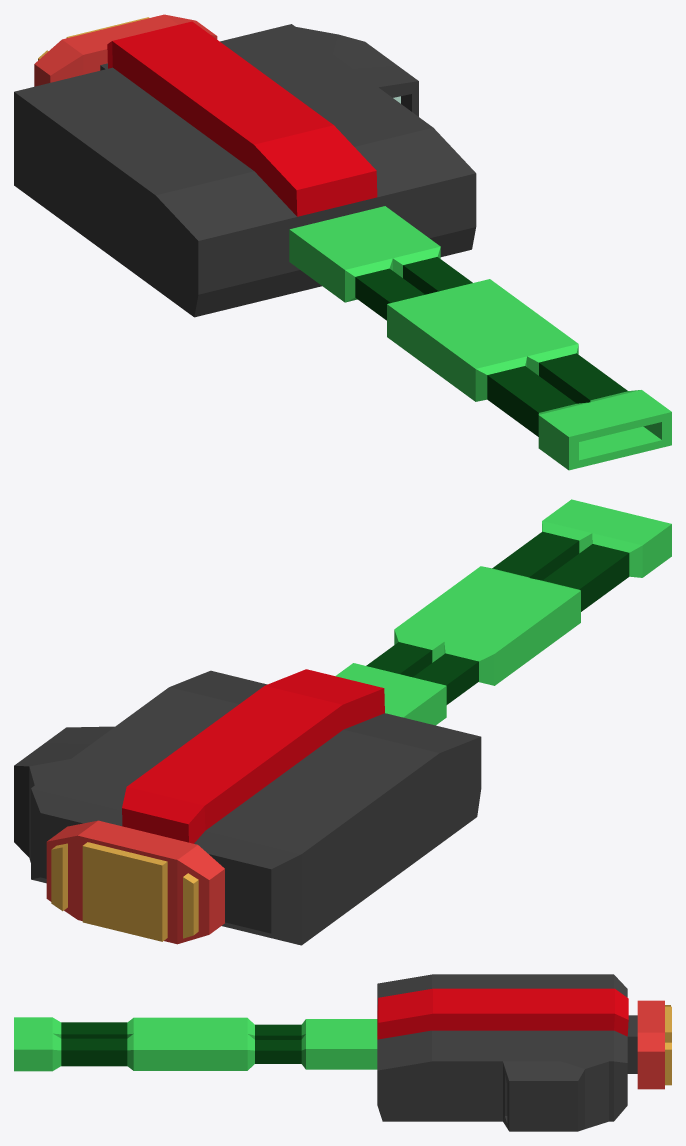
Rendered from topDefault.fbx.
The picture shows the model from 3 angles, top to bottom: view 1: azimuth 30°, elevation 25°; view 2: azimuth 150°, elevation 25°; view 3: azimuth 270°, elevation 25°; orthographic projection. The views are drawn at different scales.
Visible parts, largest first — view 1: Cylinder.002; view 2: Cylinder.002; view 3: Cylinder.002.
Part boxes in pixels (box(x1,y1,x2,y2)): Cylinder.002: box(14, 14, 671, 470); Cylinder.002: box(14, 499, 671, 945); Cylinder.002: box(14, 974, 671, 1131).
Bounding box in the file's own units: 189 × 76.06 × 518.
